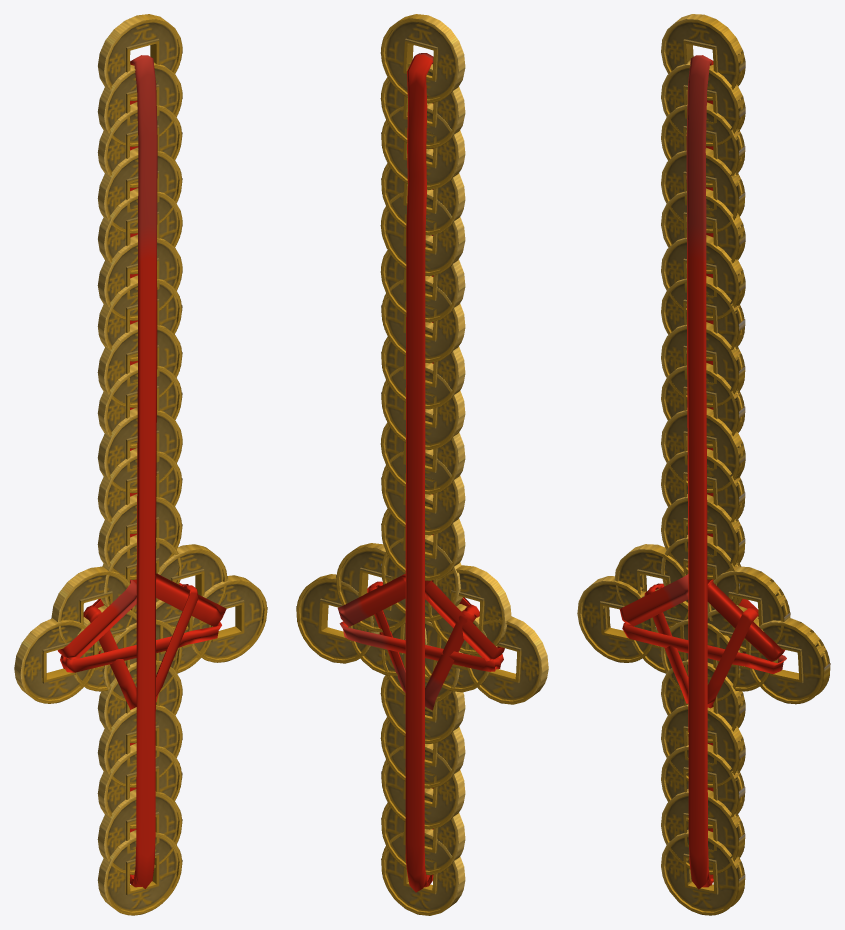
The model's file is coin sword 2.fbx.
The picture shows the model from 3 angles, left to right: view 1: azimuth 30°, elevation 25°; view 2: azimuth 150°, elevation 25°; view 3: azimuth 330°, elevation 25°; orthographic projection.
Parts seen in each view (by area): view 1: polySurface27; view 2: polySurface27; view 3: polySurface27.
Boxes of the visible parts, x1,y1,x2,y2 form: polySurface27: (14, 14, 267, 915); polySurface27: (296, 14, 548, 915); polySurface27: (577, 14, 830, 915).
Bounding box in the file's own units: 142 × 493 × 17.24.
